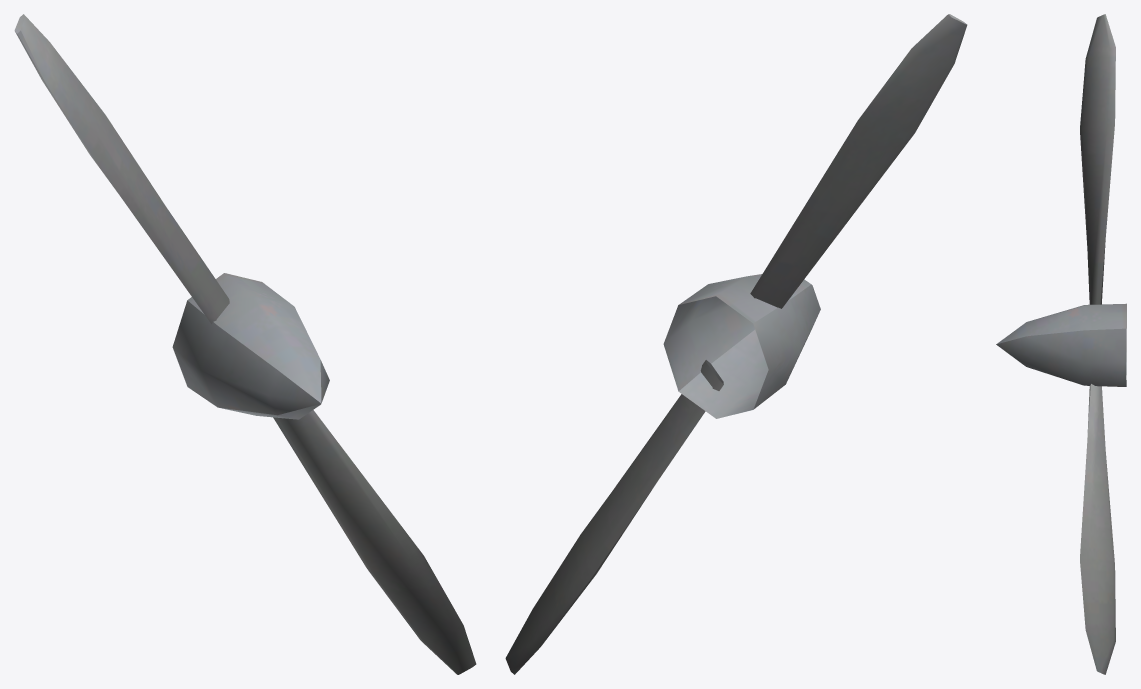
Rendered from propeller.glb.
3 views of the same model, side by side, from view 1: azimuth 30°, elevation 25°; view 2: azimuth 150°, elevation 25°; view 3: azimuth 270°, elevation 25° (orthographic). The views are drawn at different scales.
Visible parts, largest first — view 1: awionetka_airplane_0.001; view 2: awionetka_airplane_0.001; view 3: awionetka_airplane_0.001.
Part boxes in pixels (x1,y1,x2,y2): awionetka_airplane_0.001: (14, 14, 476, 674); awionetka_airplane_0.001: (505, 14, 967, 674); awionetka_airplane_0.001: (996, 14, 1126, 674).
Bounding box in the file's own units: 11.51 × 18.31 × 4.19.
Materials: 1 (1 with a texture image).
